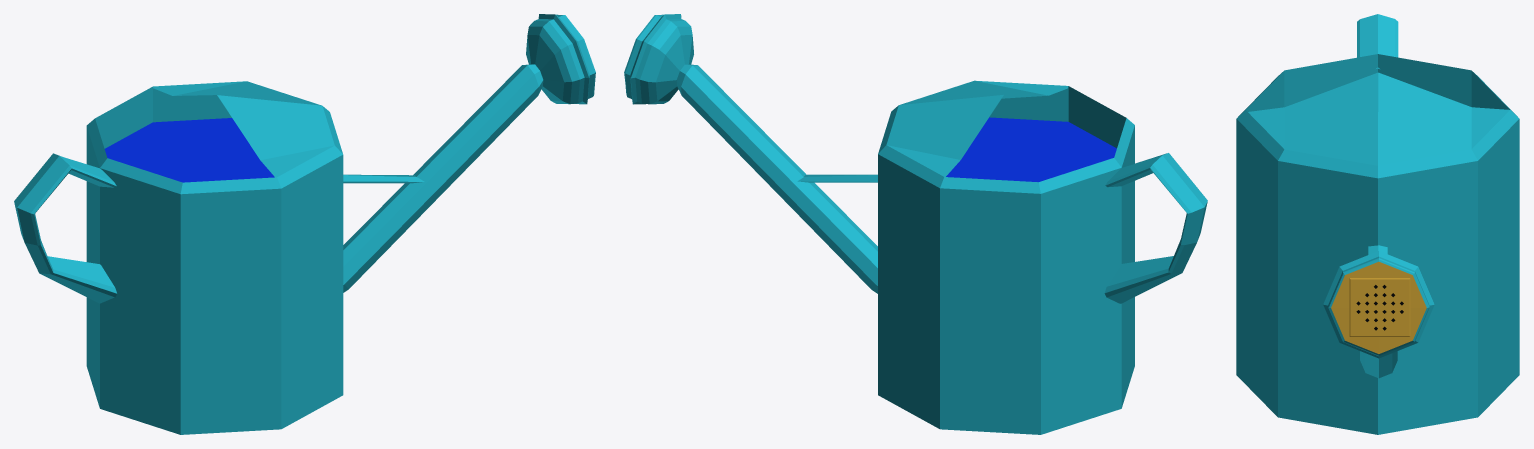
Rendered from WateringCan.fbx.
3 views of the same model, side by side, from view 1: azimuth 30°, elevation 25°; view 2: azimuth 150°, elevation 25°; view 3: azimuth 270°, elevation 25° (orthographic). The views are drawn at different scales.
Parts seen in each view (by area): view 1: Cylinder.001; view 2: Cylinder.001; view 3: Cylinder.001.
Part boxes in pixels (x1,y1,x2,y2): Cylinder.001: [14, 14, 595, 434]; Cylinder.001: [624, 14, 1207, 434]; Cylinder.001: [1236, 14, 1519, 434].
Bounding box in the file's own units: 1.44 × 0.697 × 0.5885.
